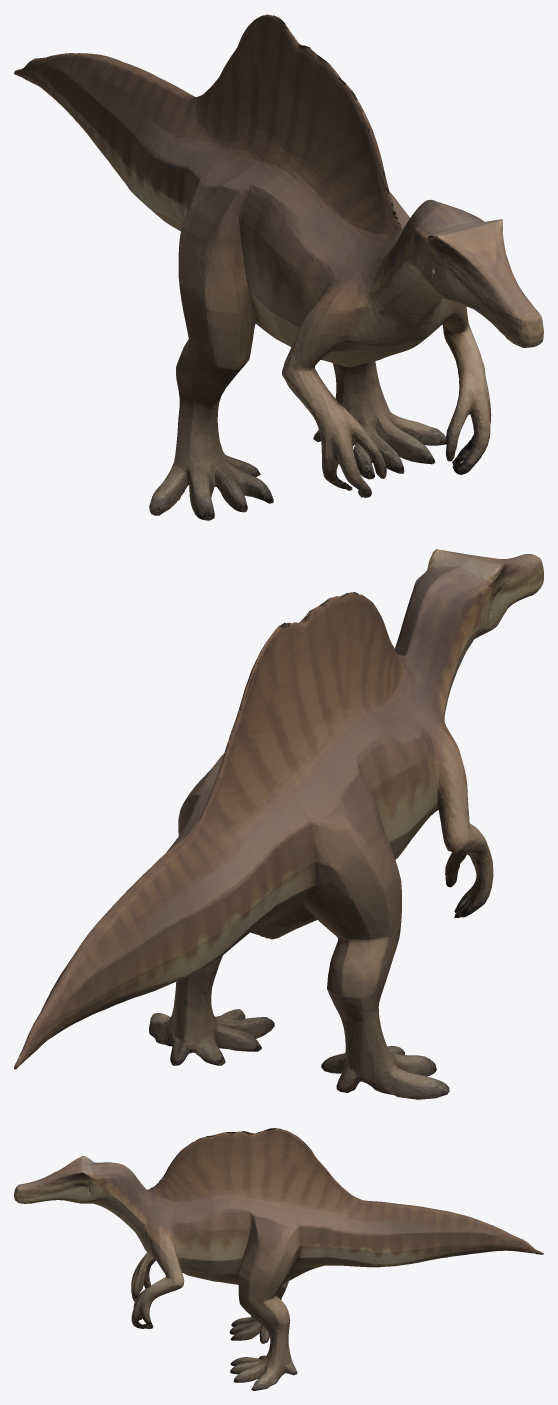
3 views of the same model, one above another, from view 1: azimuth 30°, elevation 25°; view 2: azimuth 150°, elevation 25°; view 3: azimuth 270°, elevation 25° (orthographic). The views are drawn at different scales.
Parts seen in each view (by area): view 1: world; view 2: world; view 3: world.
Part boxes in pixels (x1,y1,x2,y2): world: (14,14,543,520); world: (14,549,543,1099); world: (14,1128,543,1390).
Size of the model in its own units: 0.3242 by 0.4661 by 0.9879.
1 material, 1 textured.
